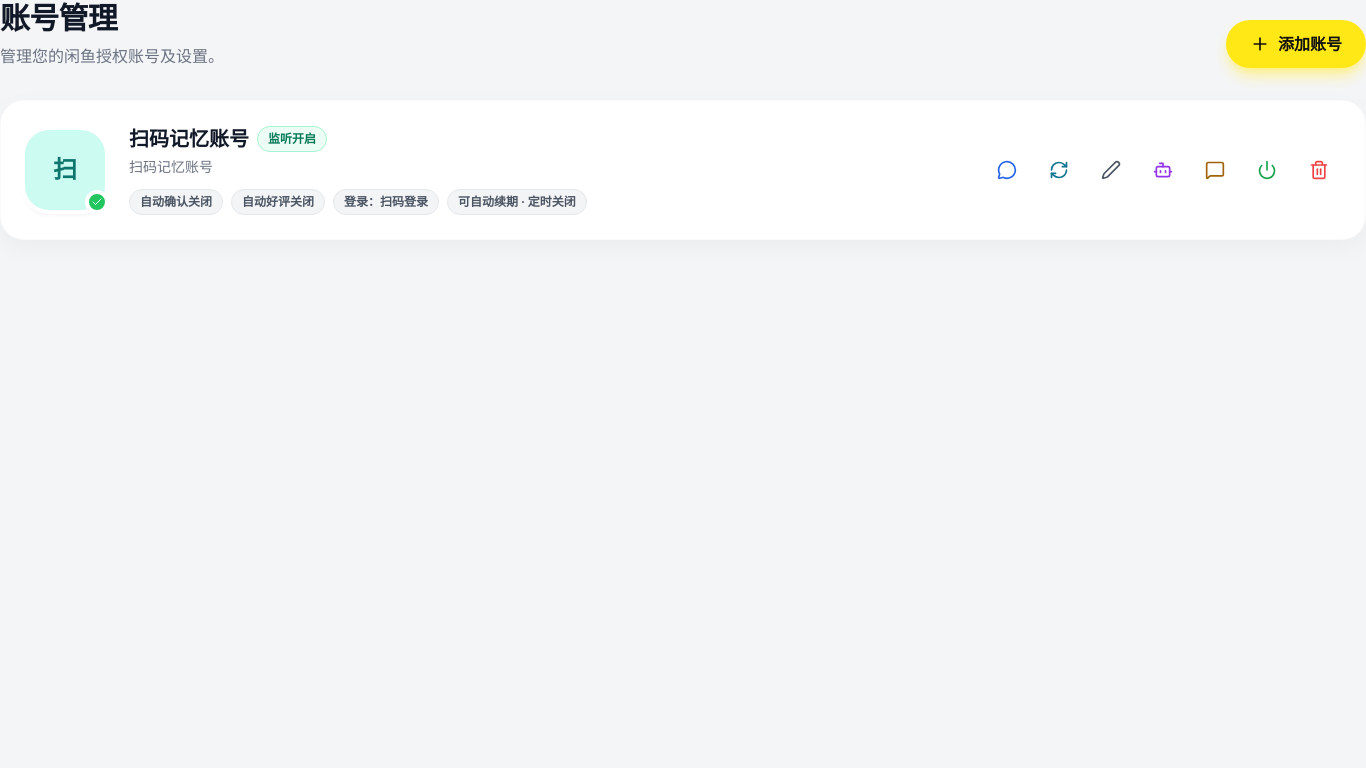
Test case: AccountList session verification UI › lets a QR account with browser memory enable scheduled refresh
Expected: the text "可自动续期 · 定时关闭" is shown, x1=447 y1=189 x2=587 y2=215
Expected: the element "扫码记忆账号" is shown, x1=0 y1=100 x2=1365 y2=240
Click the button titled "编辑账号": (1111, 170) x1=1089 y1=148 x2=1133 y2=192
(page scrolled)
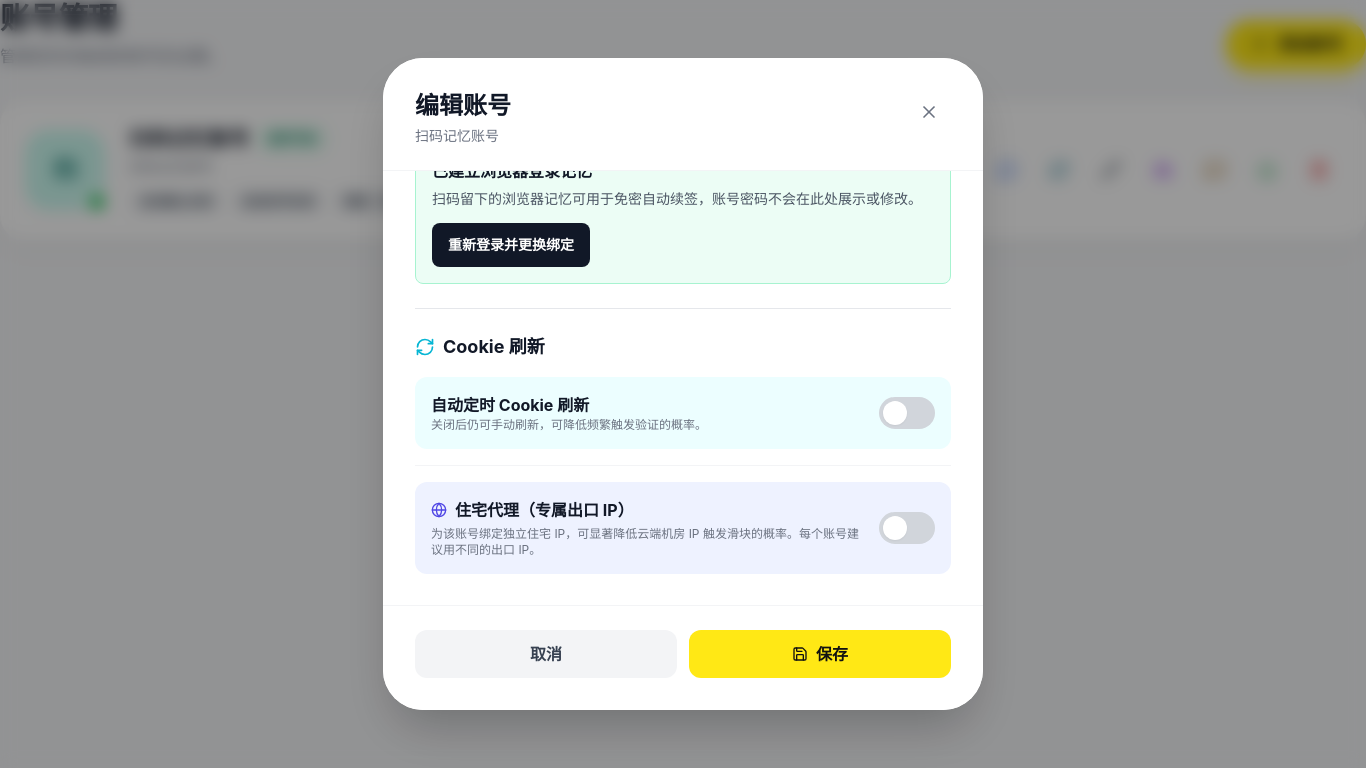
Expected: the switch named "自动定时 Cookie 刷新" is enabled, x1=879 y1=397 x2=935 y2=429
